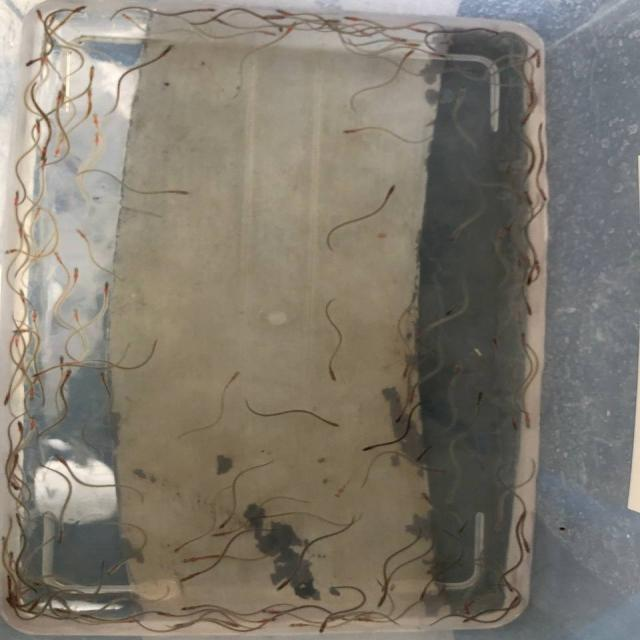glass_eel: (20, 51, 44, 73), (63, 2, 90, 21), (339, 122, 367, 140), (156, 41, 180, 61), (32, 5, 52, 27), (28, 116, 48, 138), (163, 187, 196, 200), (83, 58, 102, 80), (9, 188, 28, 210), (54, 81, 70, 106), (487, 336, 510, 352), (329, 485, 351, 500), (34, 146, 52, 164), (381, 182, 398, 200), (72, 224, 89, 242), (226, 369, 242, 388), (341, 14, 366, 26), (2, 246, 25, 259), (497, 220, 514, 237), (118, 11, 136, 27), (88, 110, 104, 128), (325, 365, 341, 383), (470, 390, 486, 408), (518, 300, 536, 316), (360, 440, 382, 453), (534, 186, 549, 205), (68, 265, 84, 282), (399, 362, 415, 379), (390, 412, 408, 427), (520, 412, 534, 431), (522, 188, 536, 207), (28, 306, 44, 322), (455, 82, 470, 99), (400, 45, 418, 59), (50, 248, 64, 266), (12, 510, 26, 528), (31, 202, 44, 221), (425, 465, 452, 474), (387, 32, 409, 43), (408, 26, 432, 36), (317, 418, 341, 428), (521, 273, 537, 288), (451, 362, 464, 380), (257, 28, 280, 38), (61, 366, 76, 381), (31, 367, 48, 380), (520, 330, 533, 347), (198, 4, 220, 14), (274, 7, 294, 18), (100, 280, 115, 294), (70, 306, 84, 321), (509, 417, 523, 432), (284, 19, 300, 32), (2, 390, 15, 406), (13, 419, 26, 435), (260, 13, 280, 23), (402, 39, 422, 49), (54, 354, 68, 368), (54, 531, 68, 545), (7, 479, 20, 494), (26, 386, 38, 402), (50, 452, 66, 464), (178, 573, 194, 585), (413, 331, 425, 347), (11, 327, 28, 338), (271, 21, 285, 34), (97, 370, 110, 384), (323, 16, 341, 26), (530, 56, 542, 71), (26, 412, 38, 427), (15, 287, 28, 300), (286, 620, 307, 628), (275, 581, 289, 593), (404, 392, 416, 406), (484, 29, 502, 38), (170, 544, 186, 554), (226, 620, 242, 630), (105, 566, 118, 578), (373, 598, 386, 610), (179, 605, 198, 613), (436, 52, 451, 62), (52, 606, 68, 615), (179, 556, 197, 564), (255, 606, 273, 614), (154, 609, 169, 618), (264, 614, 279, 623), (317, 622, 328, 634), (522, 544, 532, 556), (417, 592, 428, 602), (217, 520, 228, 530), (504, 585, 516, 594), (379, 582, 388, 594), (209, 531, 224, 538), (6, 550, 16, 560), (26, 604, 36, 614), (424, 568, 434, 578), (354, 616, 368, 623), (30, 579, 42, 587), (463, 606, 472, 616), (511, 594, 520, 604), (4, 572, 12, 582), (462, 617, 472, 624), (457, 525, 464, 535), (31, 587, 38, 594)
